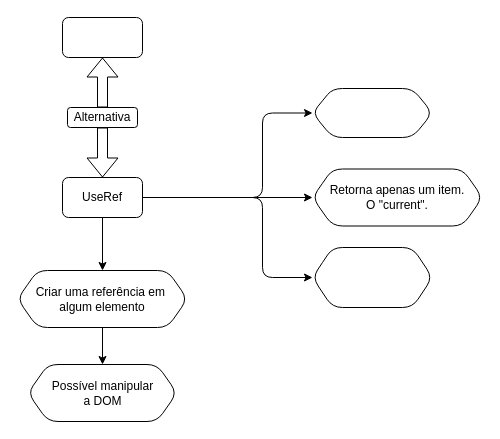
Image size: 500x439. Some labels were removed from this diagram. Here are the shapes that lost their labels. From the top down, the box of each, then its label:
(62, 16, 142, 58): UseState
(312, 88, 432, 138): Não renderiza a apliação
(312, 246, 432, 308): Aumento de performance da aplicação
